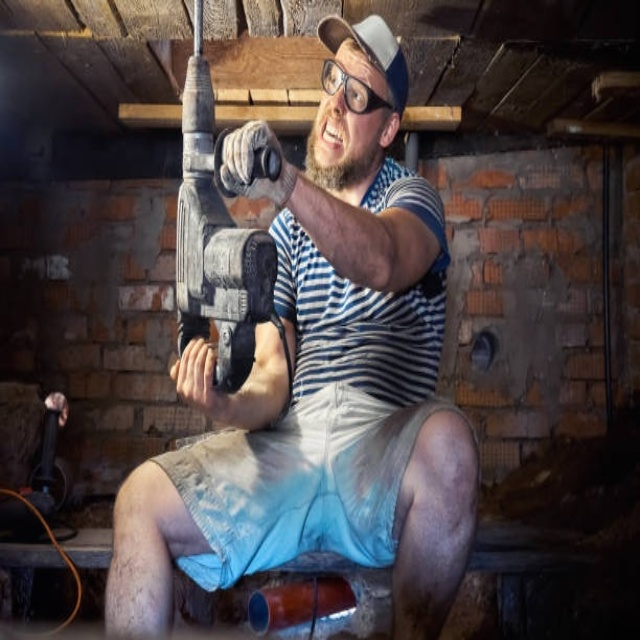Gafas: (322, 58, 394, 116)
Guantes: (219, 113, 299, 212)
Sin_guantes: (165, 331, 218, 409)
Sin_mascara: (315, 116, 358, 168)
